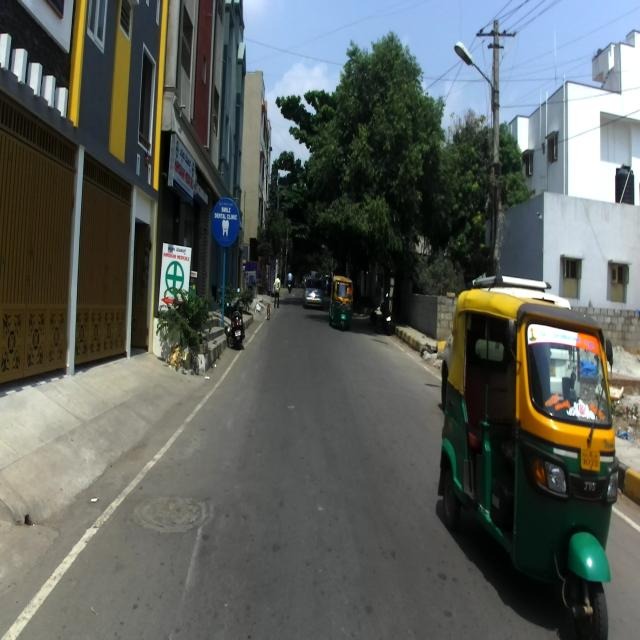auto ahead at: (436, 283, 615, 640), (328, 274, 355, 338)
plant ahead at: (161, 287, 213, 360)
sign board ahead at: (208, 194, 246, 255)
